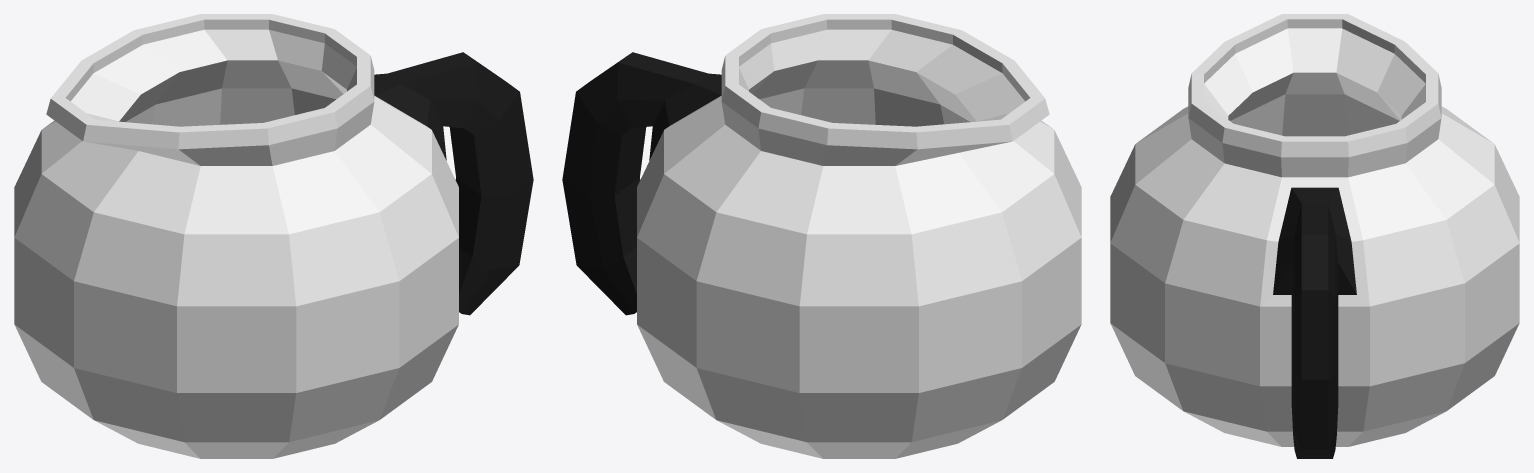
File: coffee cup lvl4.fbx
The picture shows the model from 3 angles, left to right: view 1: azimuth 30°, elevation 25°; view 2: azimuth 150°, elevation 25°; view 3: azimuth 270°, elevation 25°; orthographic projection. The views are drawn at different scales.
Parts seen in each view (by area): view 1: Cylinder.008; view 2: Cylinder.008; view 3: Cylinder.008.
Part boxes in pixels (x1,y1,x2,y2): Cylinder.008: (14, 14, 533, 458); Cylinder.008: (562, 14, 1081, 458); Cylinder.008: (1110, 14, 1519, 458).
Size of the model in its own units: 58.61 by 73.41 by 48.22.
Materials: 1 (1 with a texture image).
